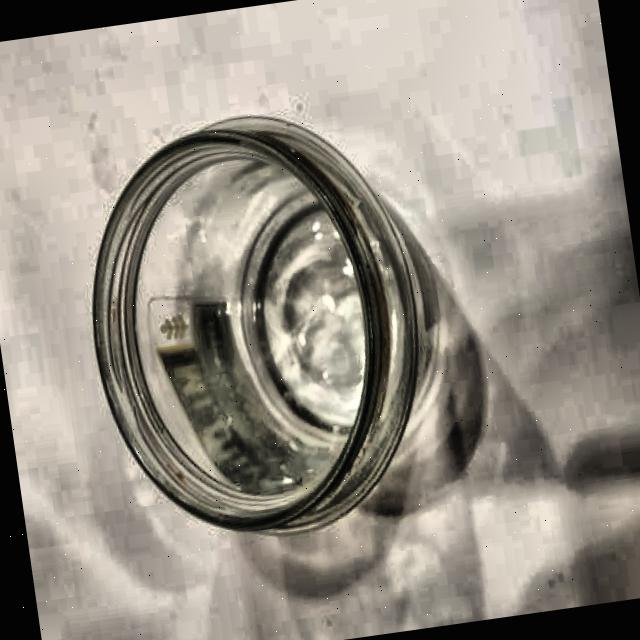glass: (63, 90, 456, 558)
